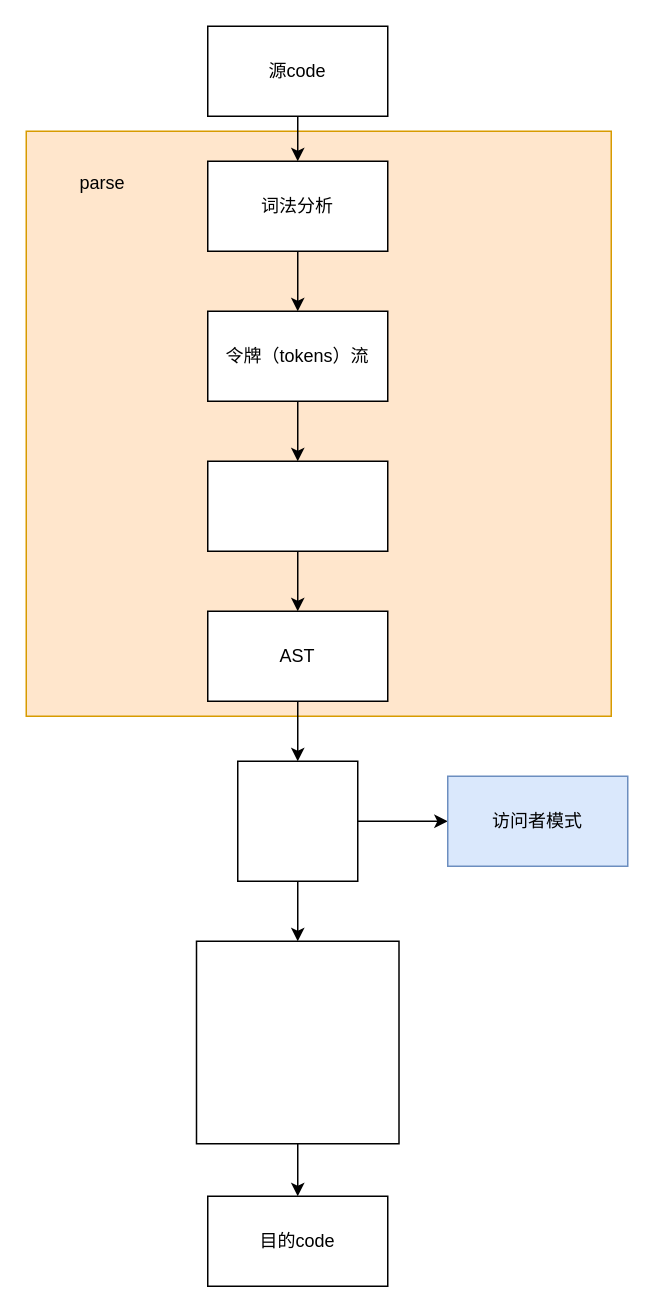
Some shapes in this 654 by 1313 pixel diagram are drawn without their labels. The shapes that lost their labels are listed below. From the top down, each one's box as (x1, y1, x2, y2) in pixels, then its label:
(206, 460, 388, 551): 语法分析
(236, 760, 358, 881): transform
(195, 940, 399, 1144): generate:将ast转换成字符串形式的代码，并生成source maps( 深度优先遍历整个 AST )
